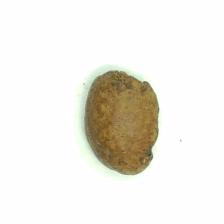NG: (141, 106, 160, 165), (111, 67, 150, 92)
